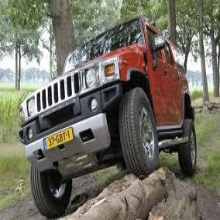no damage: (17, 16, 198, 220)
